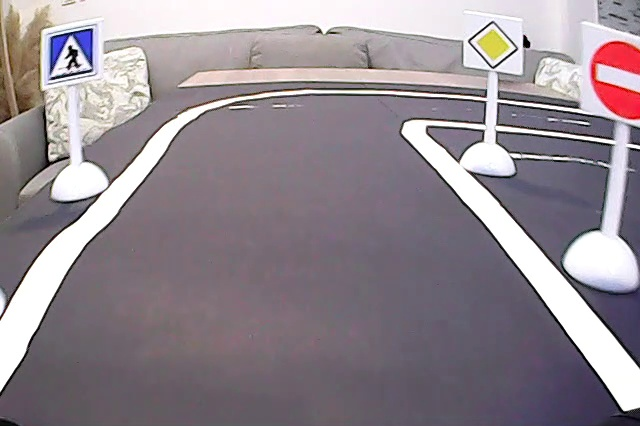do not enter: (583, 26, 640, 120)
pedestrian crossing: (41, 31, 98, 82)
